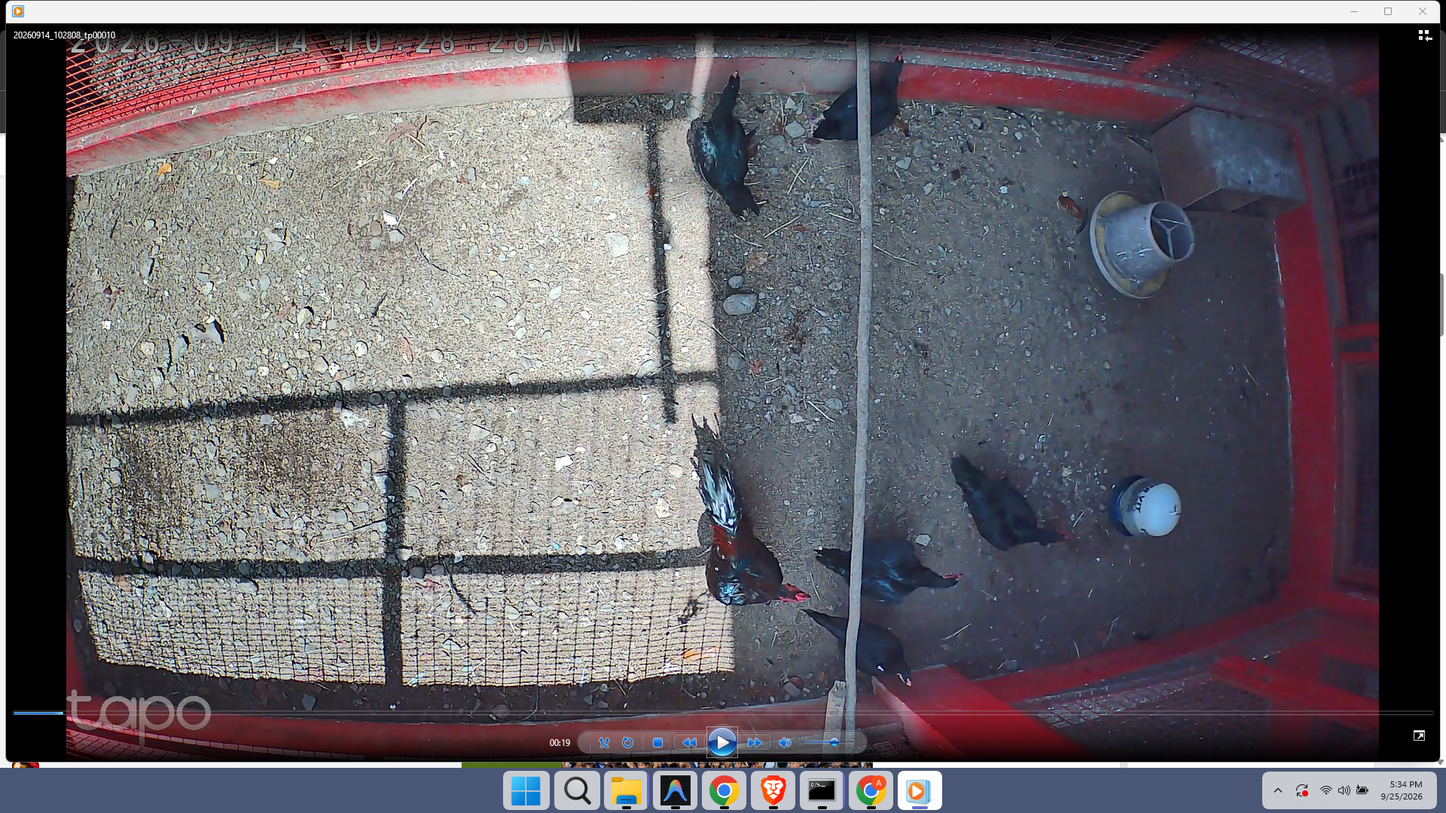Chicken: (810, 538, 976, 619), (946, 455, 1073, 559), (684, 68, 764, 218), (798, 609, 915, 690), (810, 49, 905, 145)
Drinker: (1108, 472, 1181, 541)
Feeder: (1086, 186, 1197, 301)
Rooster: (692, 454, 816, 609)
